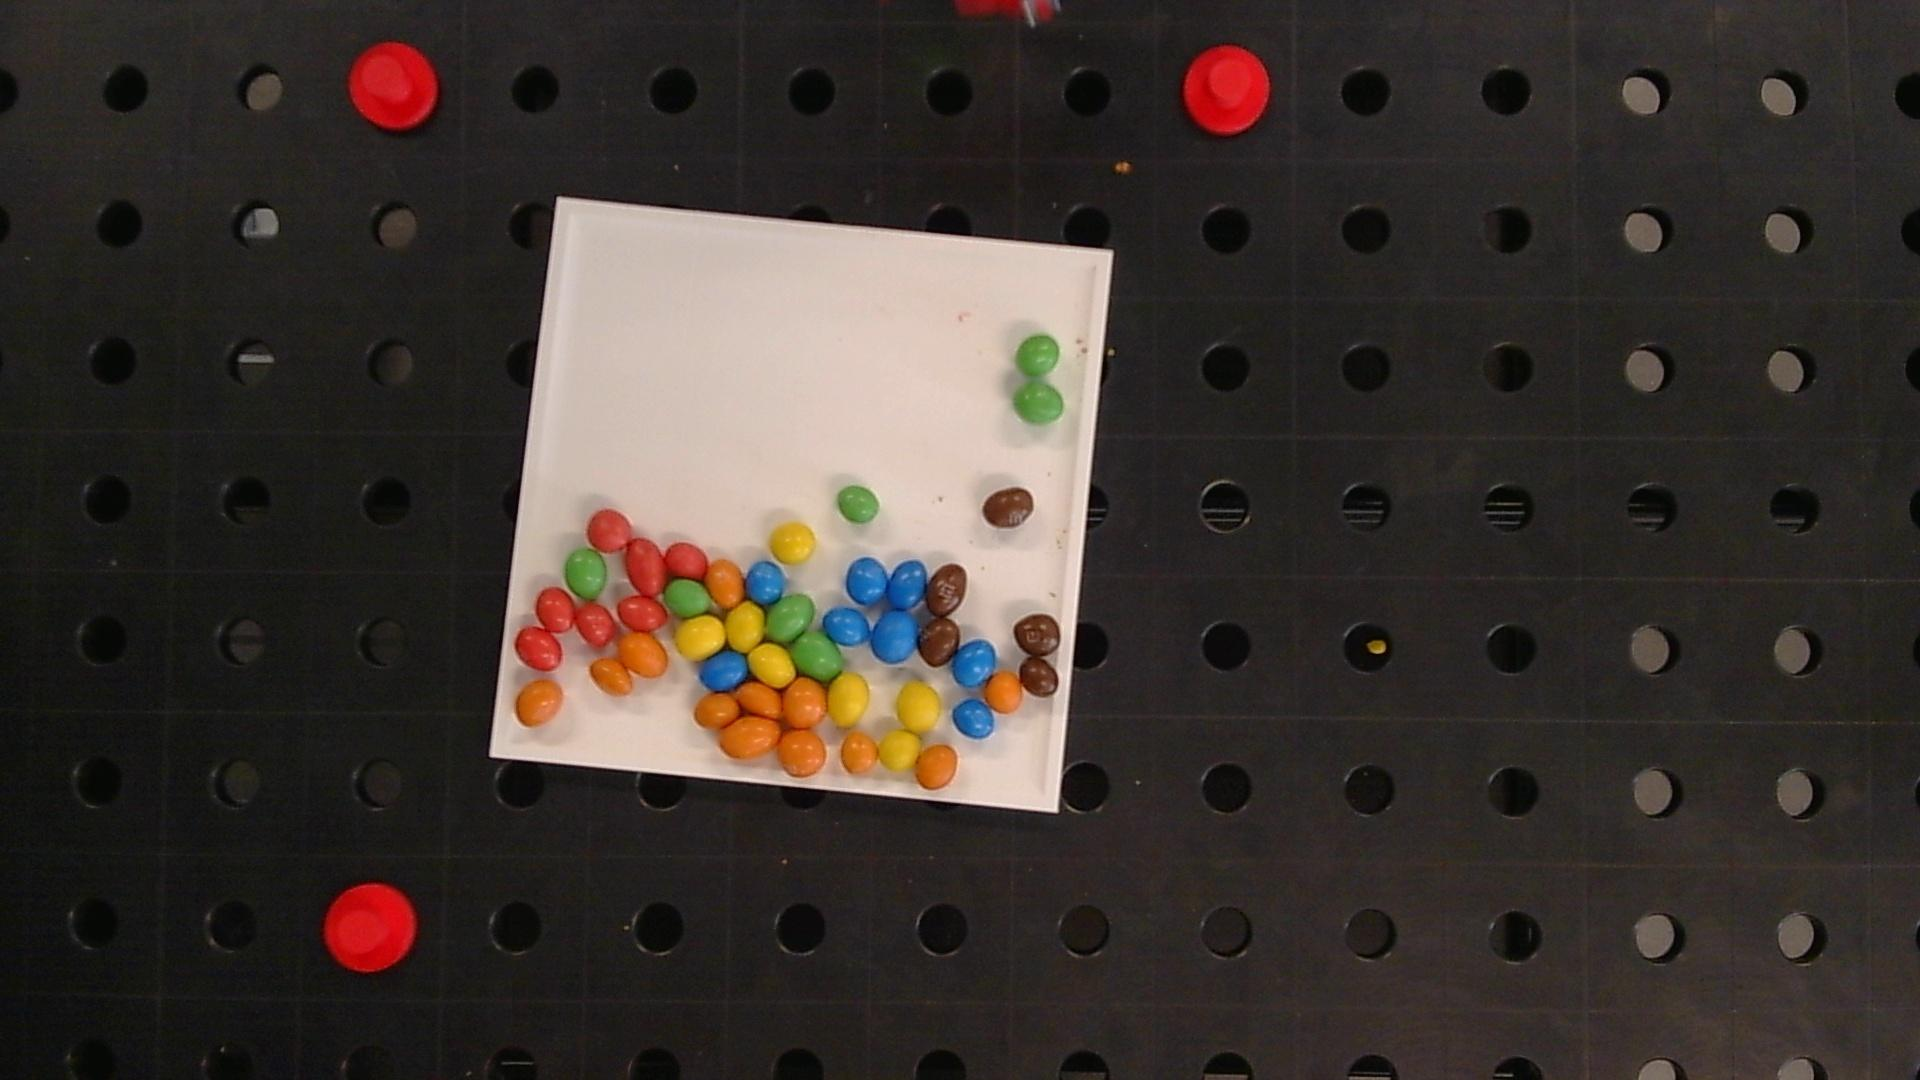blue: (870, 611, 919, 663), (952, 640, 997, 687), (887, 559, 927, 611), (847, 556, 887, 605), (702, 651, 748, 692), (823, 608, 870, 646), (953, 698, 994, 738), (745, 562, 785, 603)
brown: (981, 487, 1035, 527), (927, 563, 967, 617), (1014, 613, 1060, 657), (919, 618, 960, 666), (1019, 657, 1059, 696)
green: (1013, 381, 1065, 425), (765, 595, 814, 641), (794, 633, 843, 679), (564, 547, 607, 600), (1015, 335, 1060, 376), (665, 578, 711, 616), (837, 485, 880, 524)
orange: (719, 716, 782, 758), (777, 731, 827, 775), (618, 633, 667, 678), (516, 680, 563, 725), (783, 679, 825, 727), (915, 745, 959, 790), (707, 558, 744, 607), (696, 692, 741, 728), (984, 671, 1022, 712), (589, 658, 632, 695), (737, 682, 781, 717), (840, 733, 878, 773)
red: (626, 538, 666, 595), (514, 628, 562, 670), (587, 509, 633, 551), (574, 603, 615, 646), (618, 596, 667, 630), (535, 588, 574, 632), (666, 542, 708, 579)
yellow: (675, 615, 725, 661), (897, 682, 940, 732), (828, 674, 869, 727), (727, 601, 765, 651), (770, 522, 816, 563), (752, 645, 795, 684), (878, 731, 920, 770)
